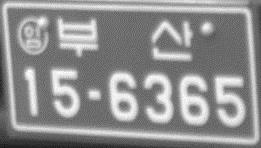-: (85, 87, 103, 103)
1: (22, 65, 42, 118)
3: (141, 72, 175, 125)
5: (212, 74, 247, 128), (48, 67, 82, 119)
6: (178, 72, 211, 126), (107, 69, 139, 122)
부산_D: (55, 14, 195, 63)
영: (16, 14, 49, 57)
